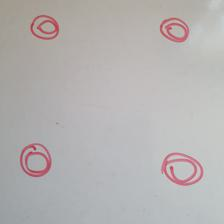dissociation: (161, 152, 204, 186), (19, 143, 52, 177), (29, 15, 60, 39), (159, 18, 190, 42)
